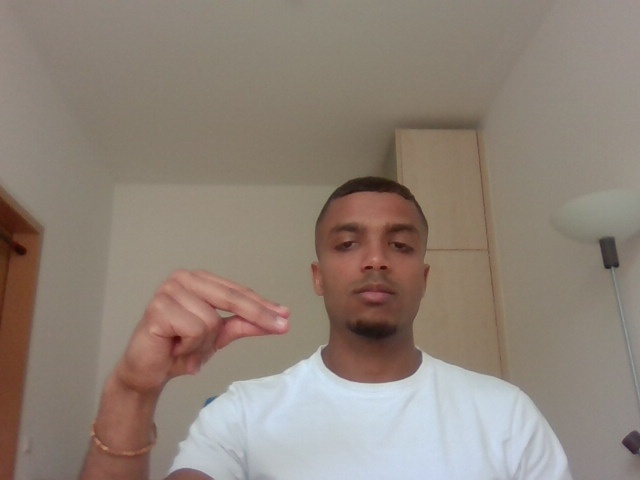no: (101, 252, 303, 395)
